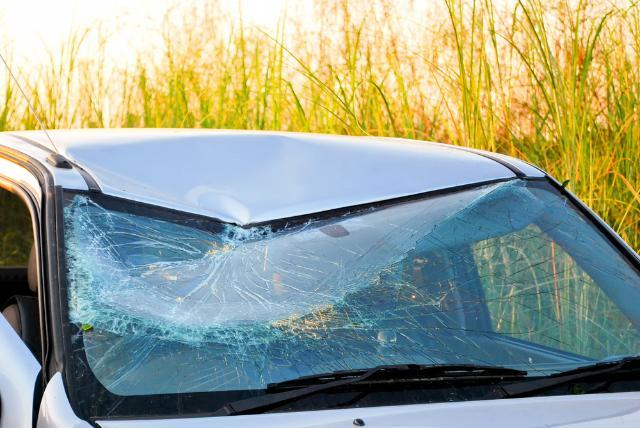dent: (66, 135, 476, 226)
glass shatter: (62, 180, 640, 417)
